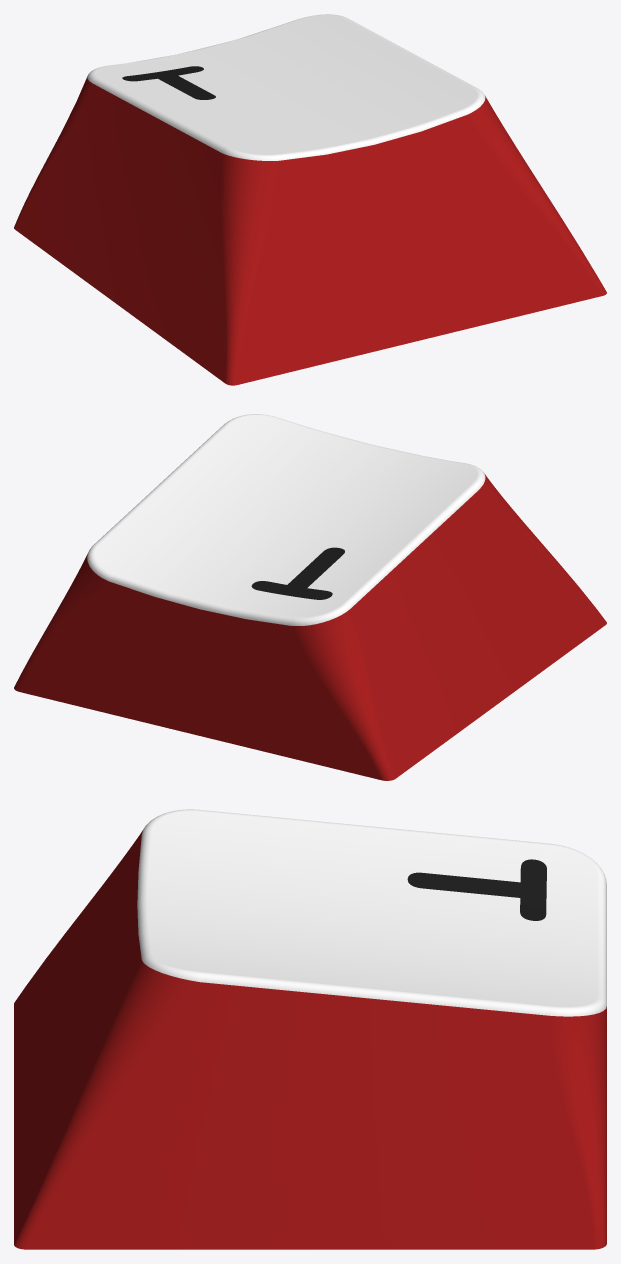
The picture shows the model from 3 angles, top to bottom: view 1: azimuth 30°, elevation 25°; view 2: azimuth 150°, elevation 25°; view 3: azimuth 270°, elevation 25°; orthographic projection. The views are drawn at different scales.
Parts seen in each view (by area): view 1: Body1; view 2: Body1; view 3: Body1.
Part boxes in pixels (left/top/right/bottom): Body1: left=14, top=14, right=606, bottom=385; Body1: left=14, top=414, right=606, bottom=780; Body1: left=14, top=809, right=606, bottom=1249.
Size of the model in its own units: 18 by 7.85 by 18.
